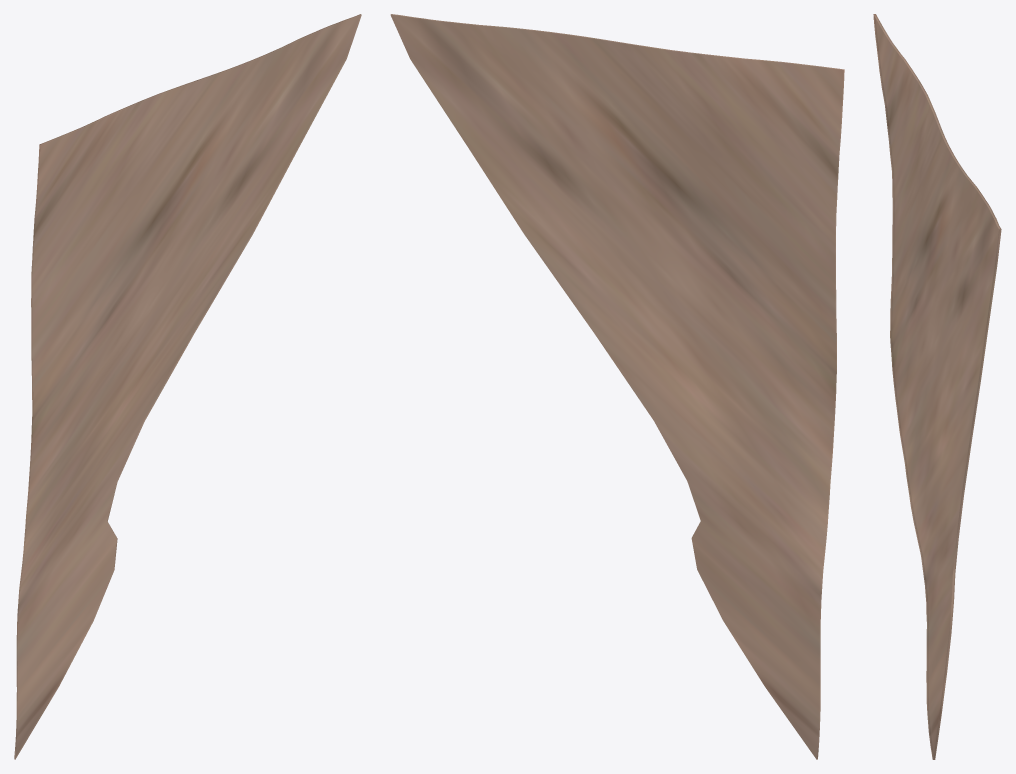
3 views of the same model, side by side, from view 1: azimuth 30°, elevation 25°; view 2: azimuth 150°, elevation 25°; view 3: azimuth 270°, elevation 25° (orthographic). The views are drawn at different scales.
Size of the model in its own units: 5.68 by 9.16 by 1.43.
Materials: 1 (1 with a texture image).
